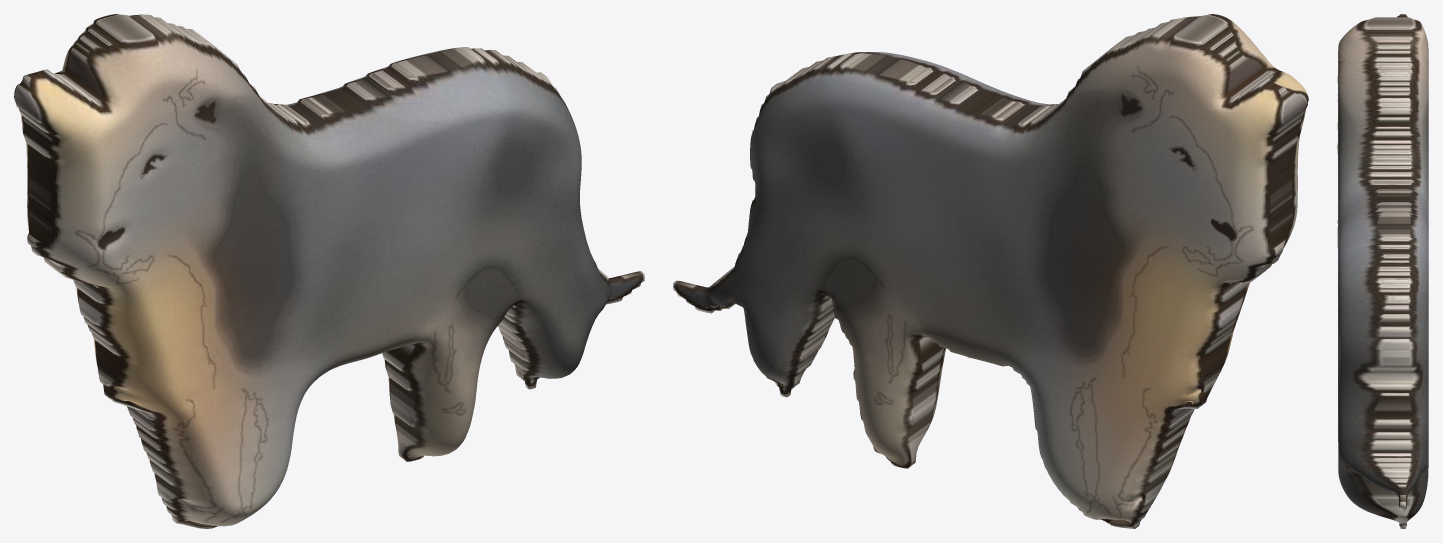
Rendered from lion_236419.glb.
3 views of the same model, side by side, from view 1: azimuth 30°, elevation 25°; view 2: azimuth 150°, elevation 25°; view 3: azimuth 270°, elevation 25° (orthographic). The views are drawn at different scales.
Parts seen in each view (by area): view 1: lion_236419; view 2: lion_236419; view 3: lion_236419.
Part boxes in pixels (bbox=[...]): lion_236419: bbox=[14, 14, 644, 528]; lion_236419: bbox=[673, 14, 1308, 528]; lion_236419: bbox=[1337, 14, 1428, 528].
Bounding box in the file's own units: 1.97 × 1.55 × 0.3296.
1 material, 1 textured.
